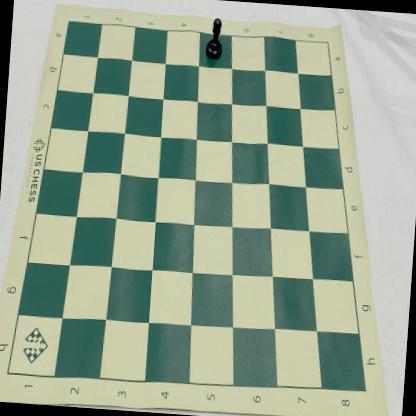black-pawn: (205, 17, 226, 61)
